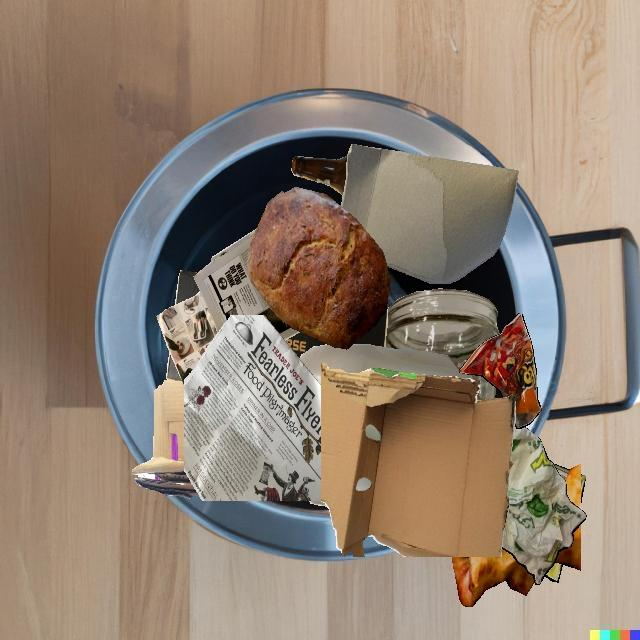biowaste: (247, 187, 391, 349), (517, 469, 571, 572), (452, 548, 517, 607)
cardboard: (321, 363, 515, 557), (341, 144, 518, 283), (169, 291, 384, 355), (132, 379, 199, 498)
glass: (384, 289, 499, 368), (291, 155, 347, 195)
paper: (184, 315, 322, 501), (502, 425, 586, 585), (193, 227, 300, 341), (156, 291, 217, 386)
plastic: (299, 344, 478, 501)
trash: (459, 313, 542, 429), (558, 475, 581, 583)
